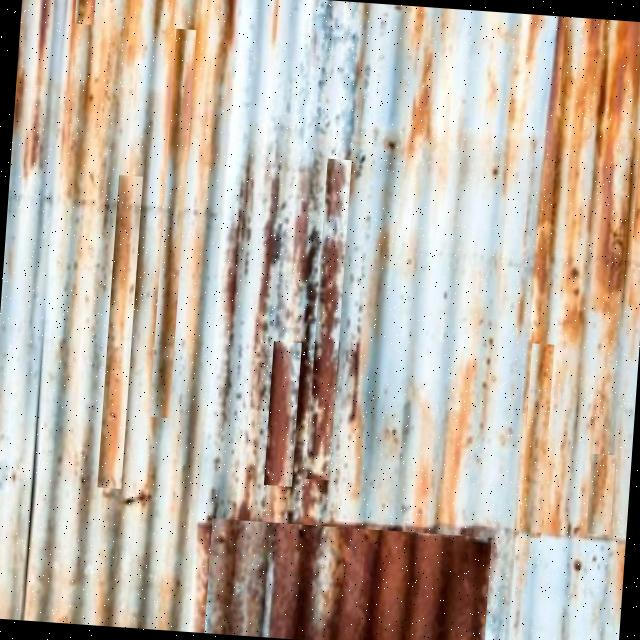Corrosion: (0, 0, 640, 640), (188, 510, 494, 640)
